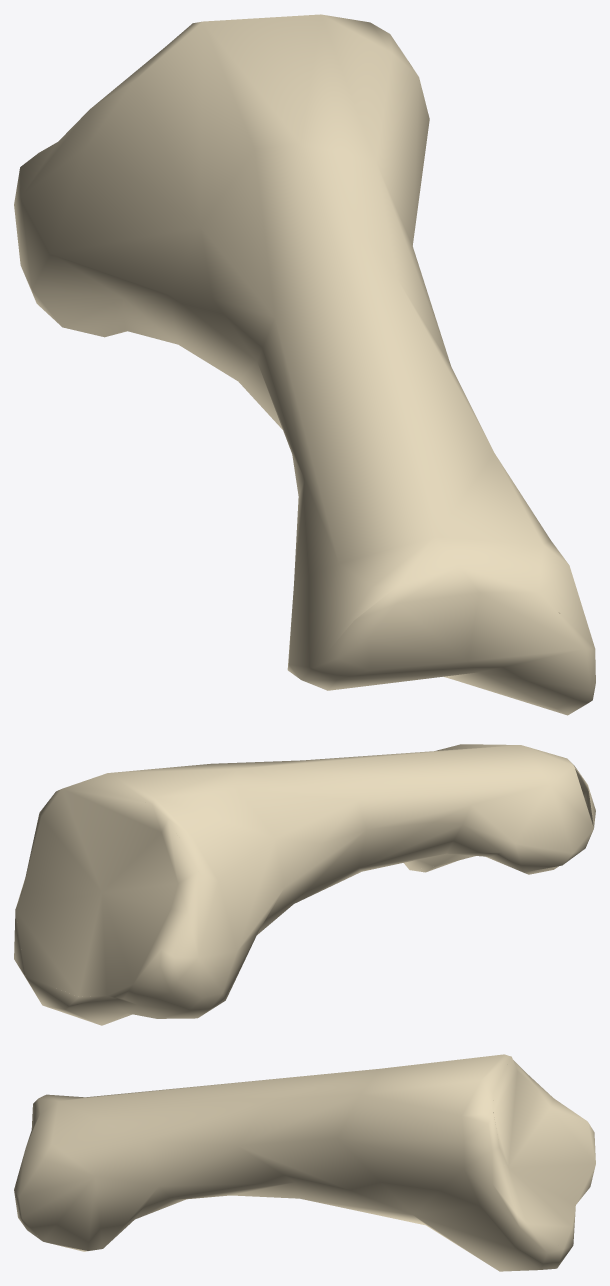
The model's file is esqueleto-proximal-phalanx-of-third-finger-of-foot-r.glb.
3 views of the same model, one above another, from view 1: azimuth 30°, elevation 25°; view 2: azimuth 150°, elevation 25°; view 3: azimuth 270°, elevation 25° (orthographic). The views are drawn at different scales.
Visible parts, largest first — view 1: Proximal phalanx of third finger of foot.r; view 2: Proximal phalanx of third finger of foot.r; view 3: Proximal phalanx of third finger of foot.r.
Part boxes in pixels (bbox=[...]): Proximal phalanx of third finger of foot.r: bbox=[14, 14, 595, 715]; Proximal phalanx of third finger of foot.r: bbox=[14, 744, 595, 1025]; Proximal phalanx of third finger of foot.r: bbox=[14, 1054, 595, 1271].
Size of the model in its own units: 0.0164 by 0.012 by 0.0301.
